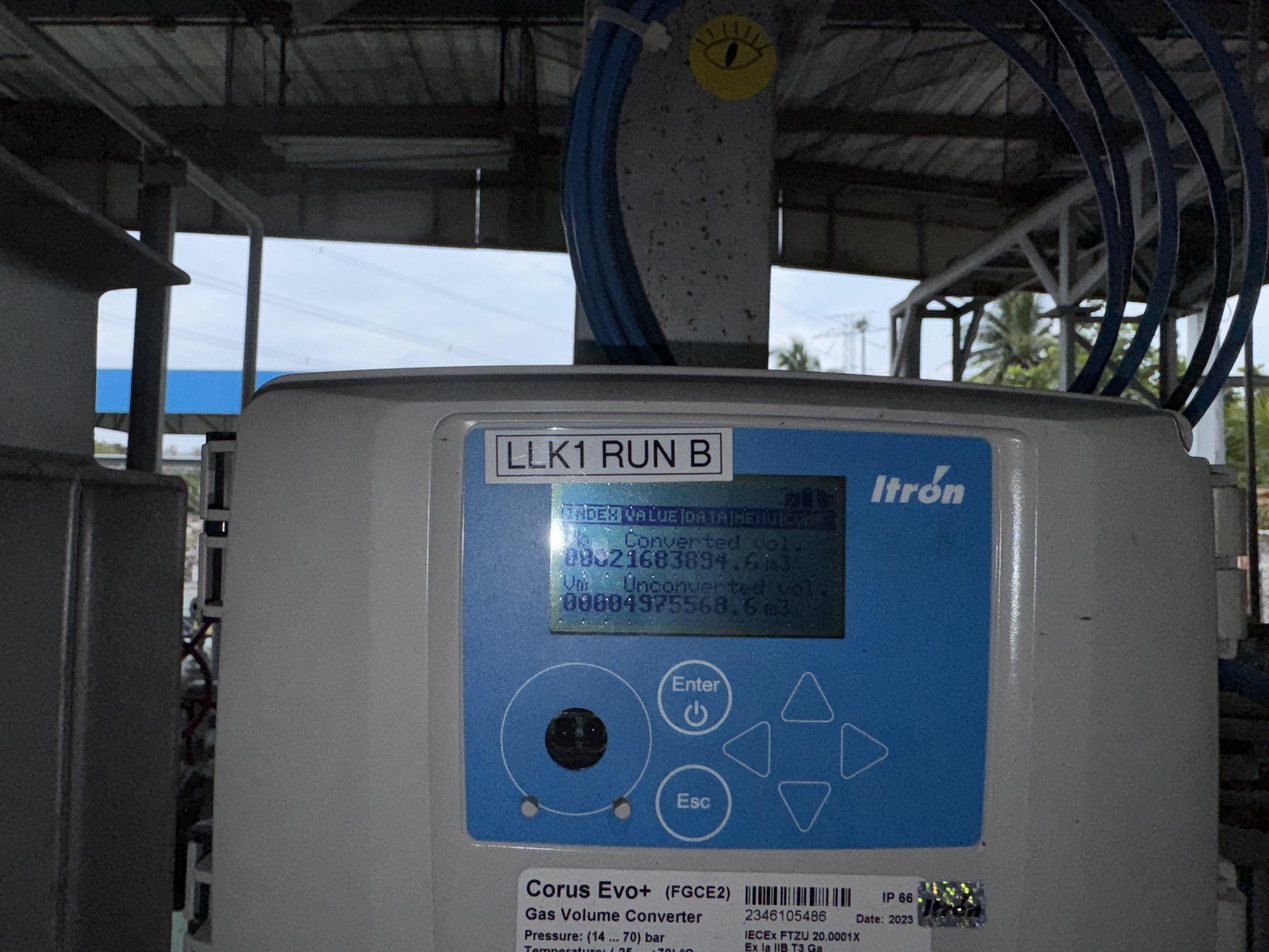digital_screen: (548, 472, 847, 638)
